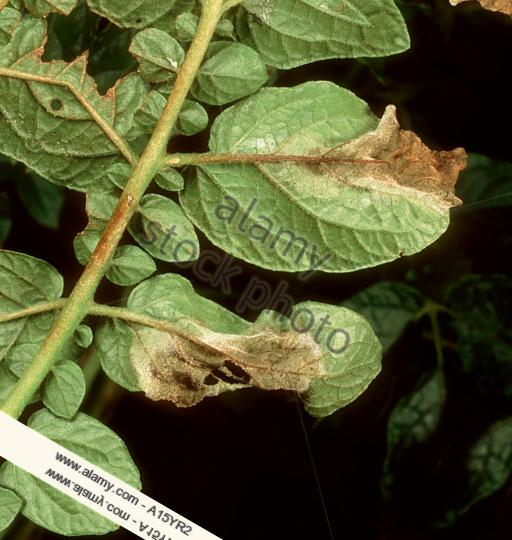Tomato leaf late blight: (159, 26, 501, 350), (70, 194, 411, 501)
